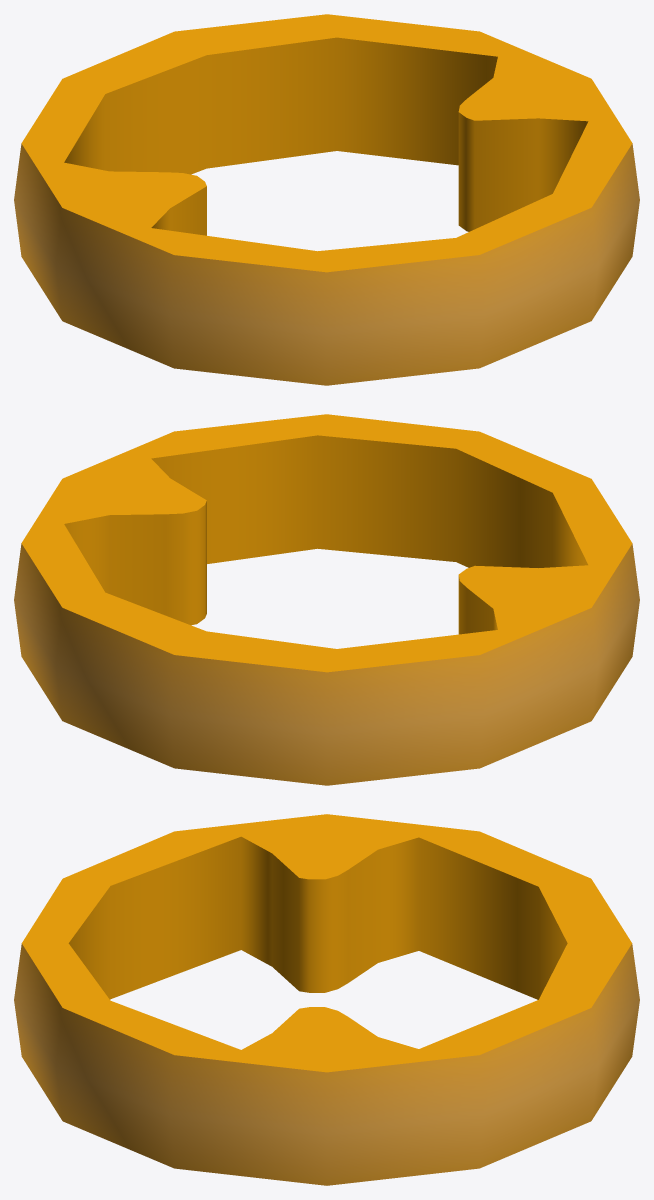
The model's file is Hot_peper_yelow_slice.fbx.
3 renders of one model, top to bottom at view 1: azimuth 30°, elevation 25°; view 2: azimuth 150°, elevation 25°; view 3: azimuth 270°, elevation 25°, orthographic.
Parts seen in each view (by area): view 1: Hot_peper_yelow_slice; view 2: Hot_peper_yelow_slice; view 3: Hot_peper_yelow_slice.
Part boxes in pixels (x1,y1,x2,y2): Hot_peper_yelow_slice: (14,14,639,385); Hot_peper_yelow_slice: (14,414,639,785); Hot_peper_yelow_slice: (14,814,639,1185).
Size of the model in its own units: 36.8 by 36.8 by 7.36.
